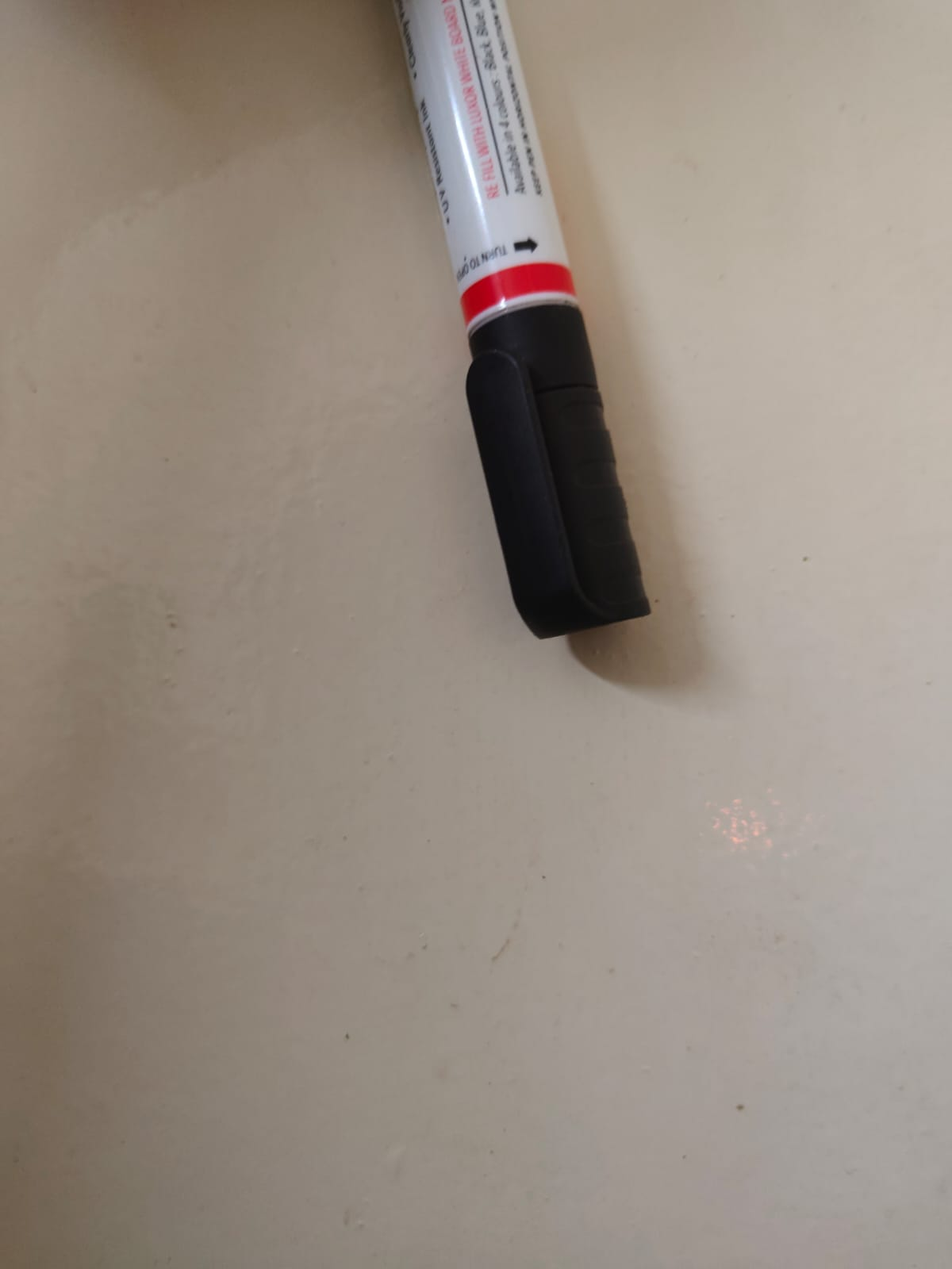case: (377, 37, 712, 665)
